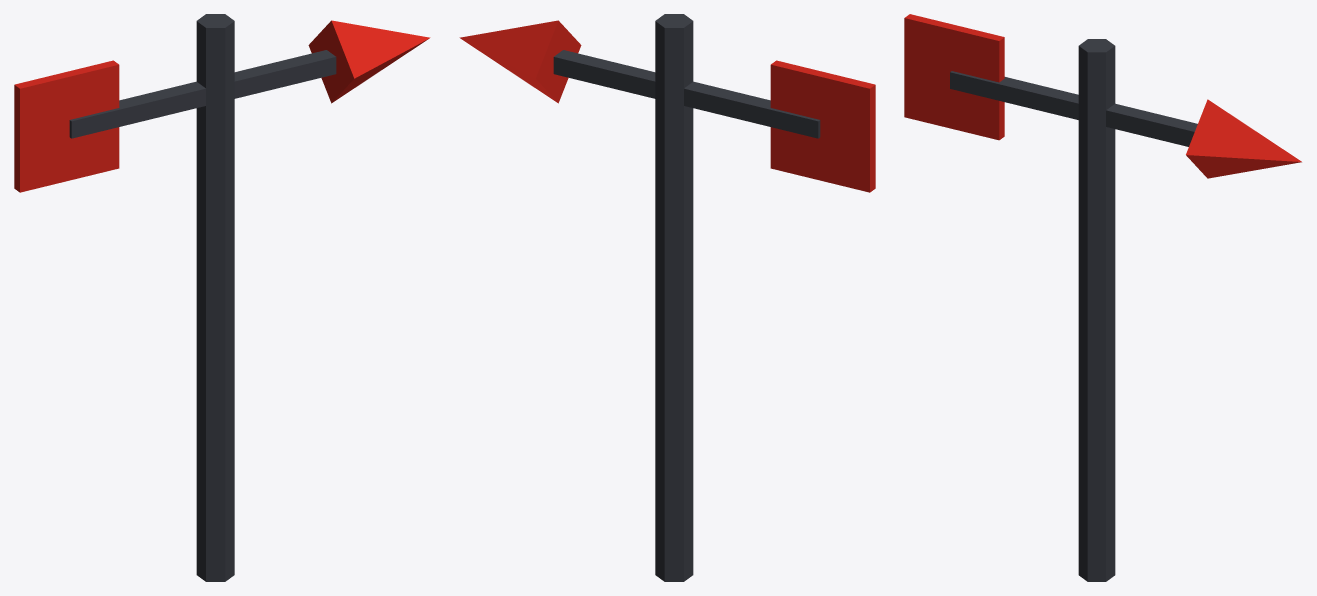
File: sky_wind_vane.glb
The picture shows the model from 3 angles, left to right: view 1: azimuth 30°, elevation 25°; view 2: azimuth 150°, elevation 25°; view 3: azimuth 330°, elevation 25°; orthographic projection. The views are drawn at different scales.
Visible parts, largest first — view 1: wind_vane; view 2: wind_vane; view 3: wind_vane.
Part boxes in pixels (<box>): wind_vane: <box>14,14,430,581</box>; wind_vane: <box>459,14,875,581</box>; wind_vane: <box>904,14,1301,581</box>.
Bounding box in the file's own units: 1.25 × 1.6 × 0.24.
